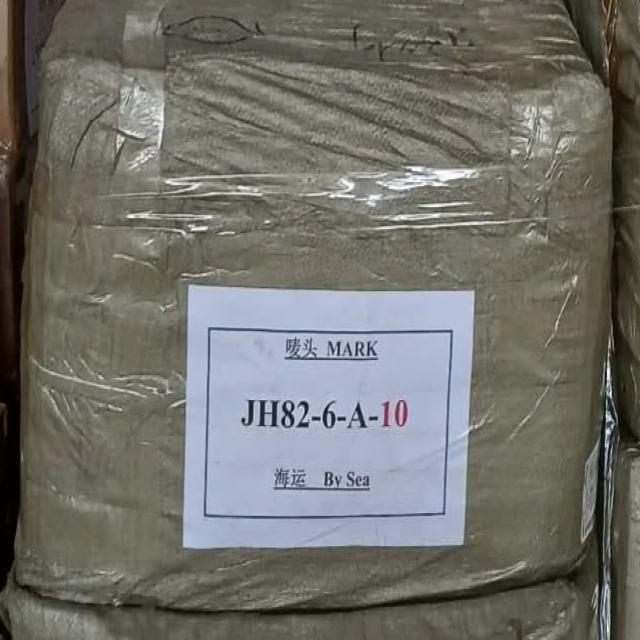export_mark_label: (195, 288, 464, 542)
